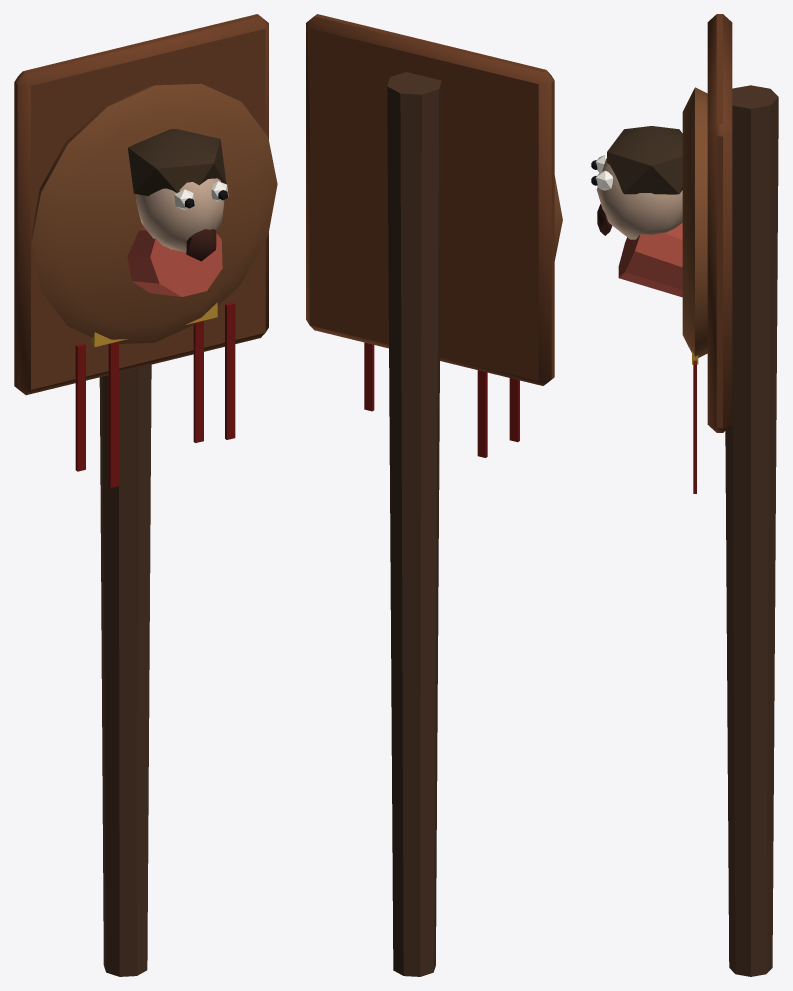
File: trophy_board.glb
The picture shows the model from 3 angles, left to right: view 1: azimuth 30°, elevation 25°; view 2: azimuth 150°, elevation 25°; view 3: azimuth 270°, elevation 25°; orthographic projection. The views are drawn at different scales.
Parts seen in each view (by area): view 1: trophy_board; view 2: trophy_board; view 3: trophy_board.
Part boxes in pixels (x1,y1,x2,y2): trophy_board: (14,14,277,976); trophy_board: (306,14,562,976); trophy_board: (591,14,778,976).
Bounding box in the file's own units: 0.9 × 3.2 × 0.6053.
